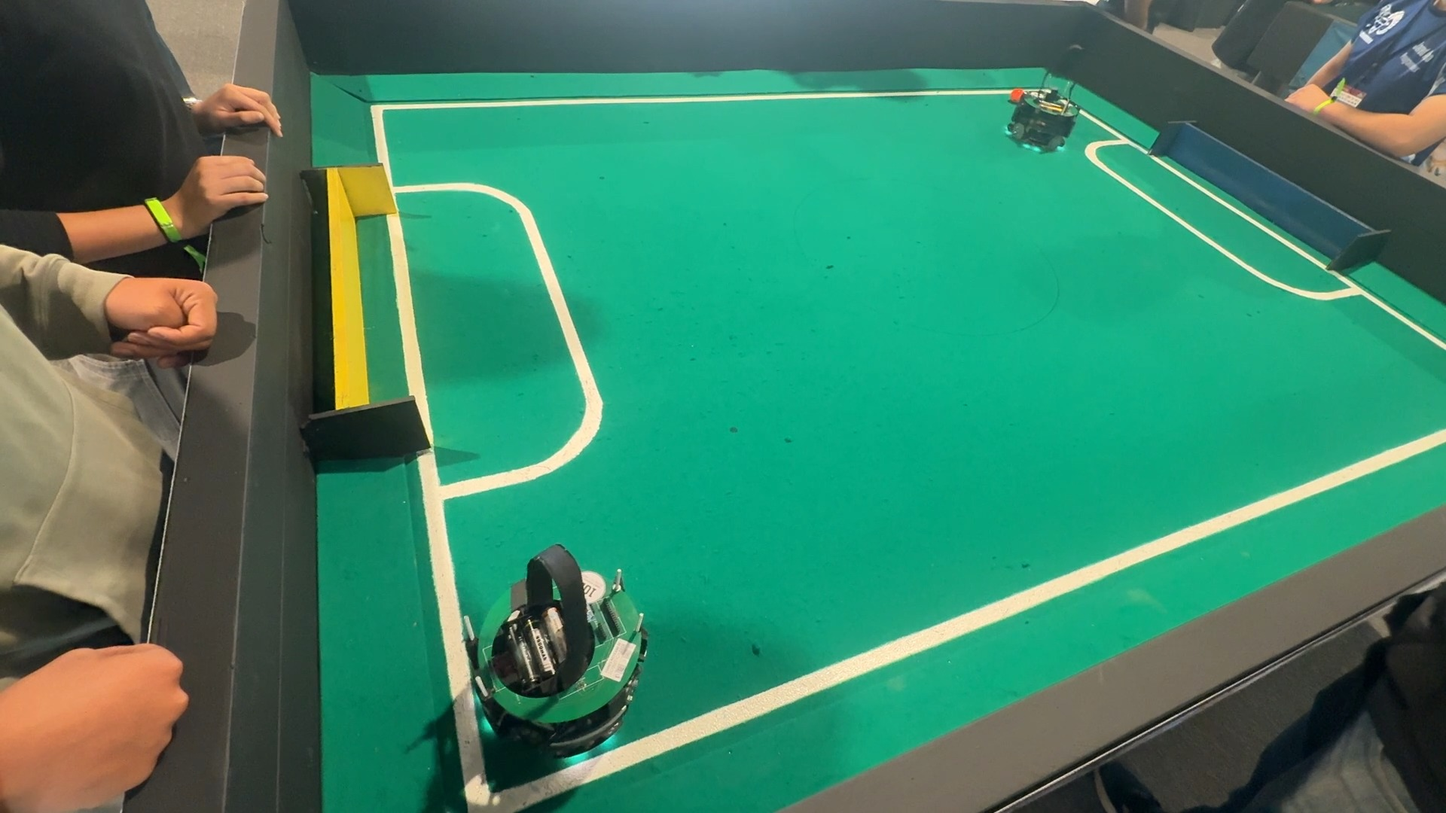Robot: (394, 519, 669, 813), (991, 77, 1107, 167)
